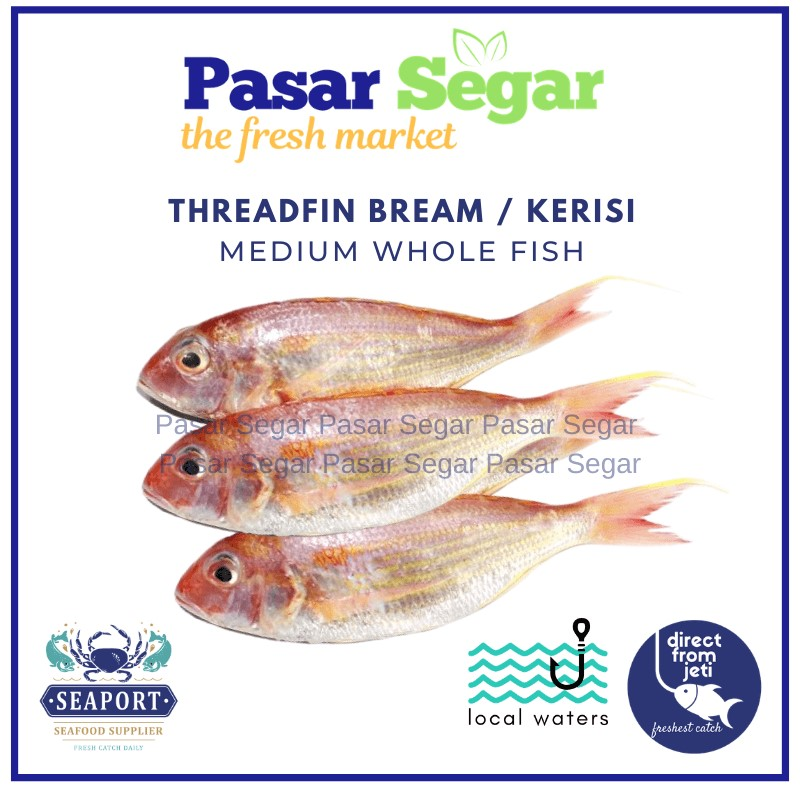Ikan Kerisi: (113, 385, 671, 530), (110, 267, 592, 399), (165, 520, 654, 632)
